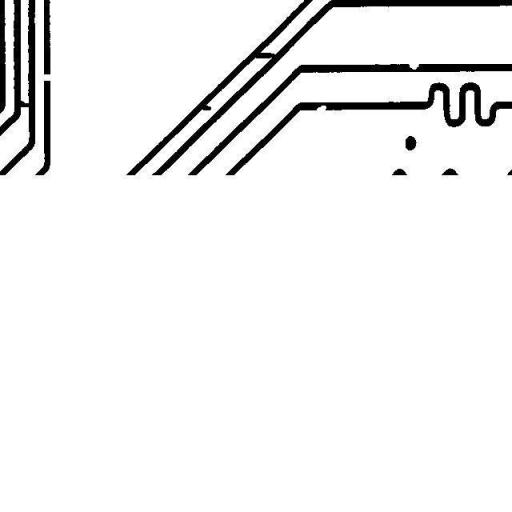mousebite: (401, 55, 426, 77), (308, 98, 334, 119)
open: (33, 66, 60, 88)
short: (248, 44, 282, 66), (8, 93, 38, 114)
spur: (192, 98, 218, 118)
